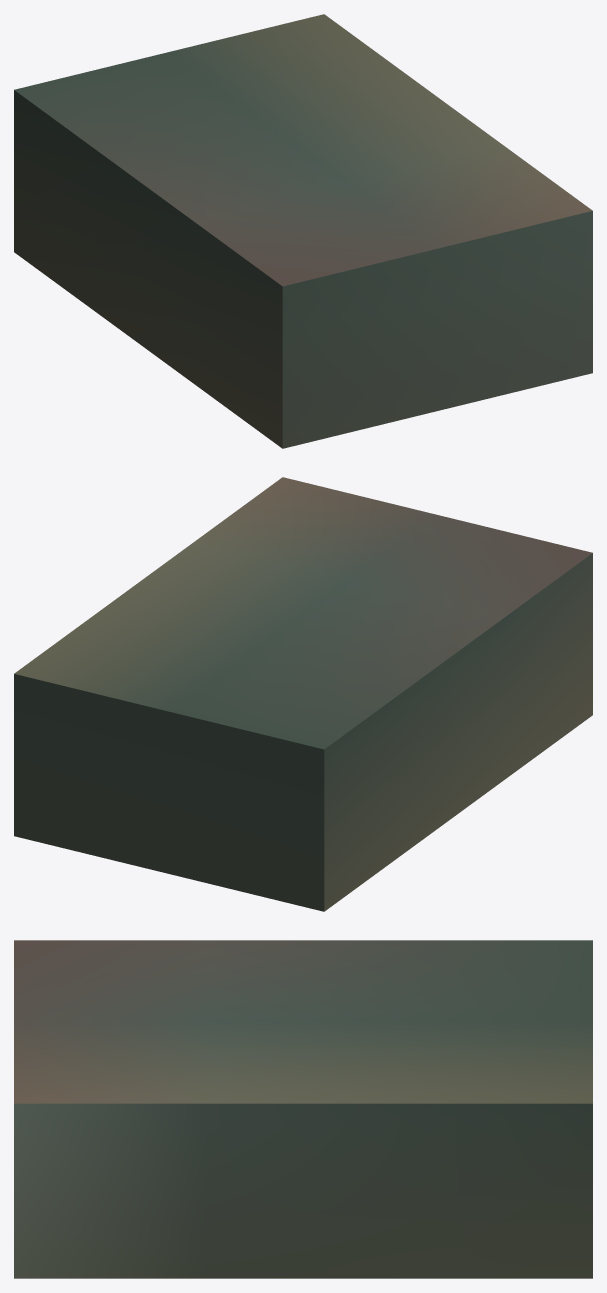
File: RemoteControl_00.fbx
The picture shows the model from 3 angles, top to bottom: view 1: azimuth 30°, elevation 25°; view 2: azimuth 150°, elevation 25°; view 3: azimuth 270°, elevation 25°; orthographic projection. The views are drawn at different scales.
Parts seen in each view (by area): view 1: RemoteControl_00; view 2: RemoteControl_00; view 3: RemoteControl_00.
Part boxes in pixels (box(x1,y1,x2,y2)): RemoteControl_00: box(14, 14, 592, 448); RemoteControl_00: box(14, 477, 592, 911); RemoteControl_00: box(14, 940, 592, 1278).
Size of the model in its own units: 10 by 15 by 5.
Materials: 1 (1 with a texture image).
